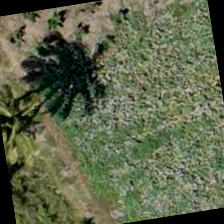Kelapa_Sawit: (0, 69, 62, 167)
